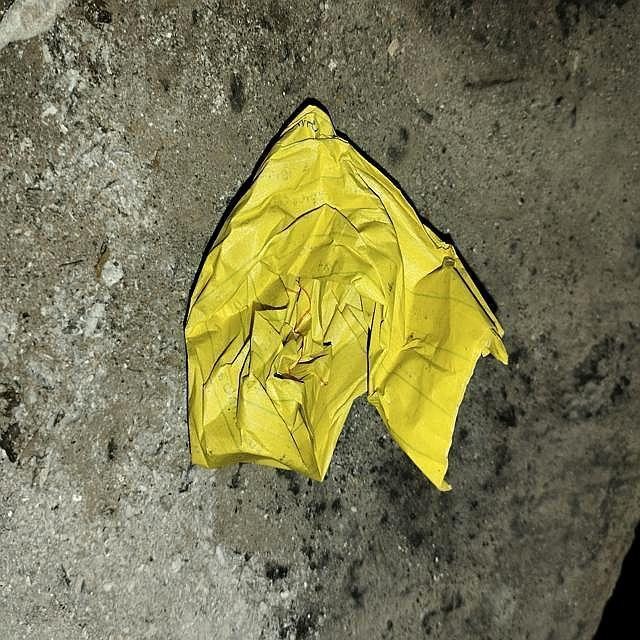Biodegradable: (189, 104, 511, 490)
